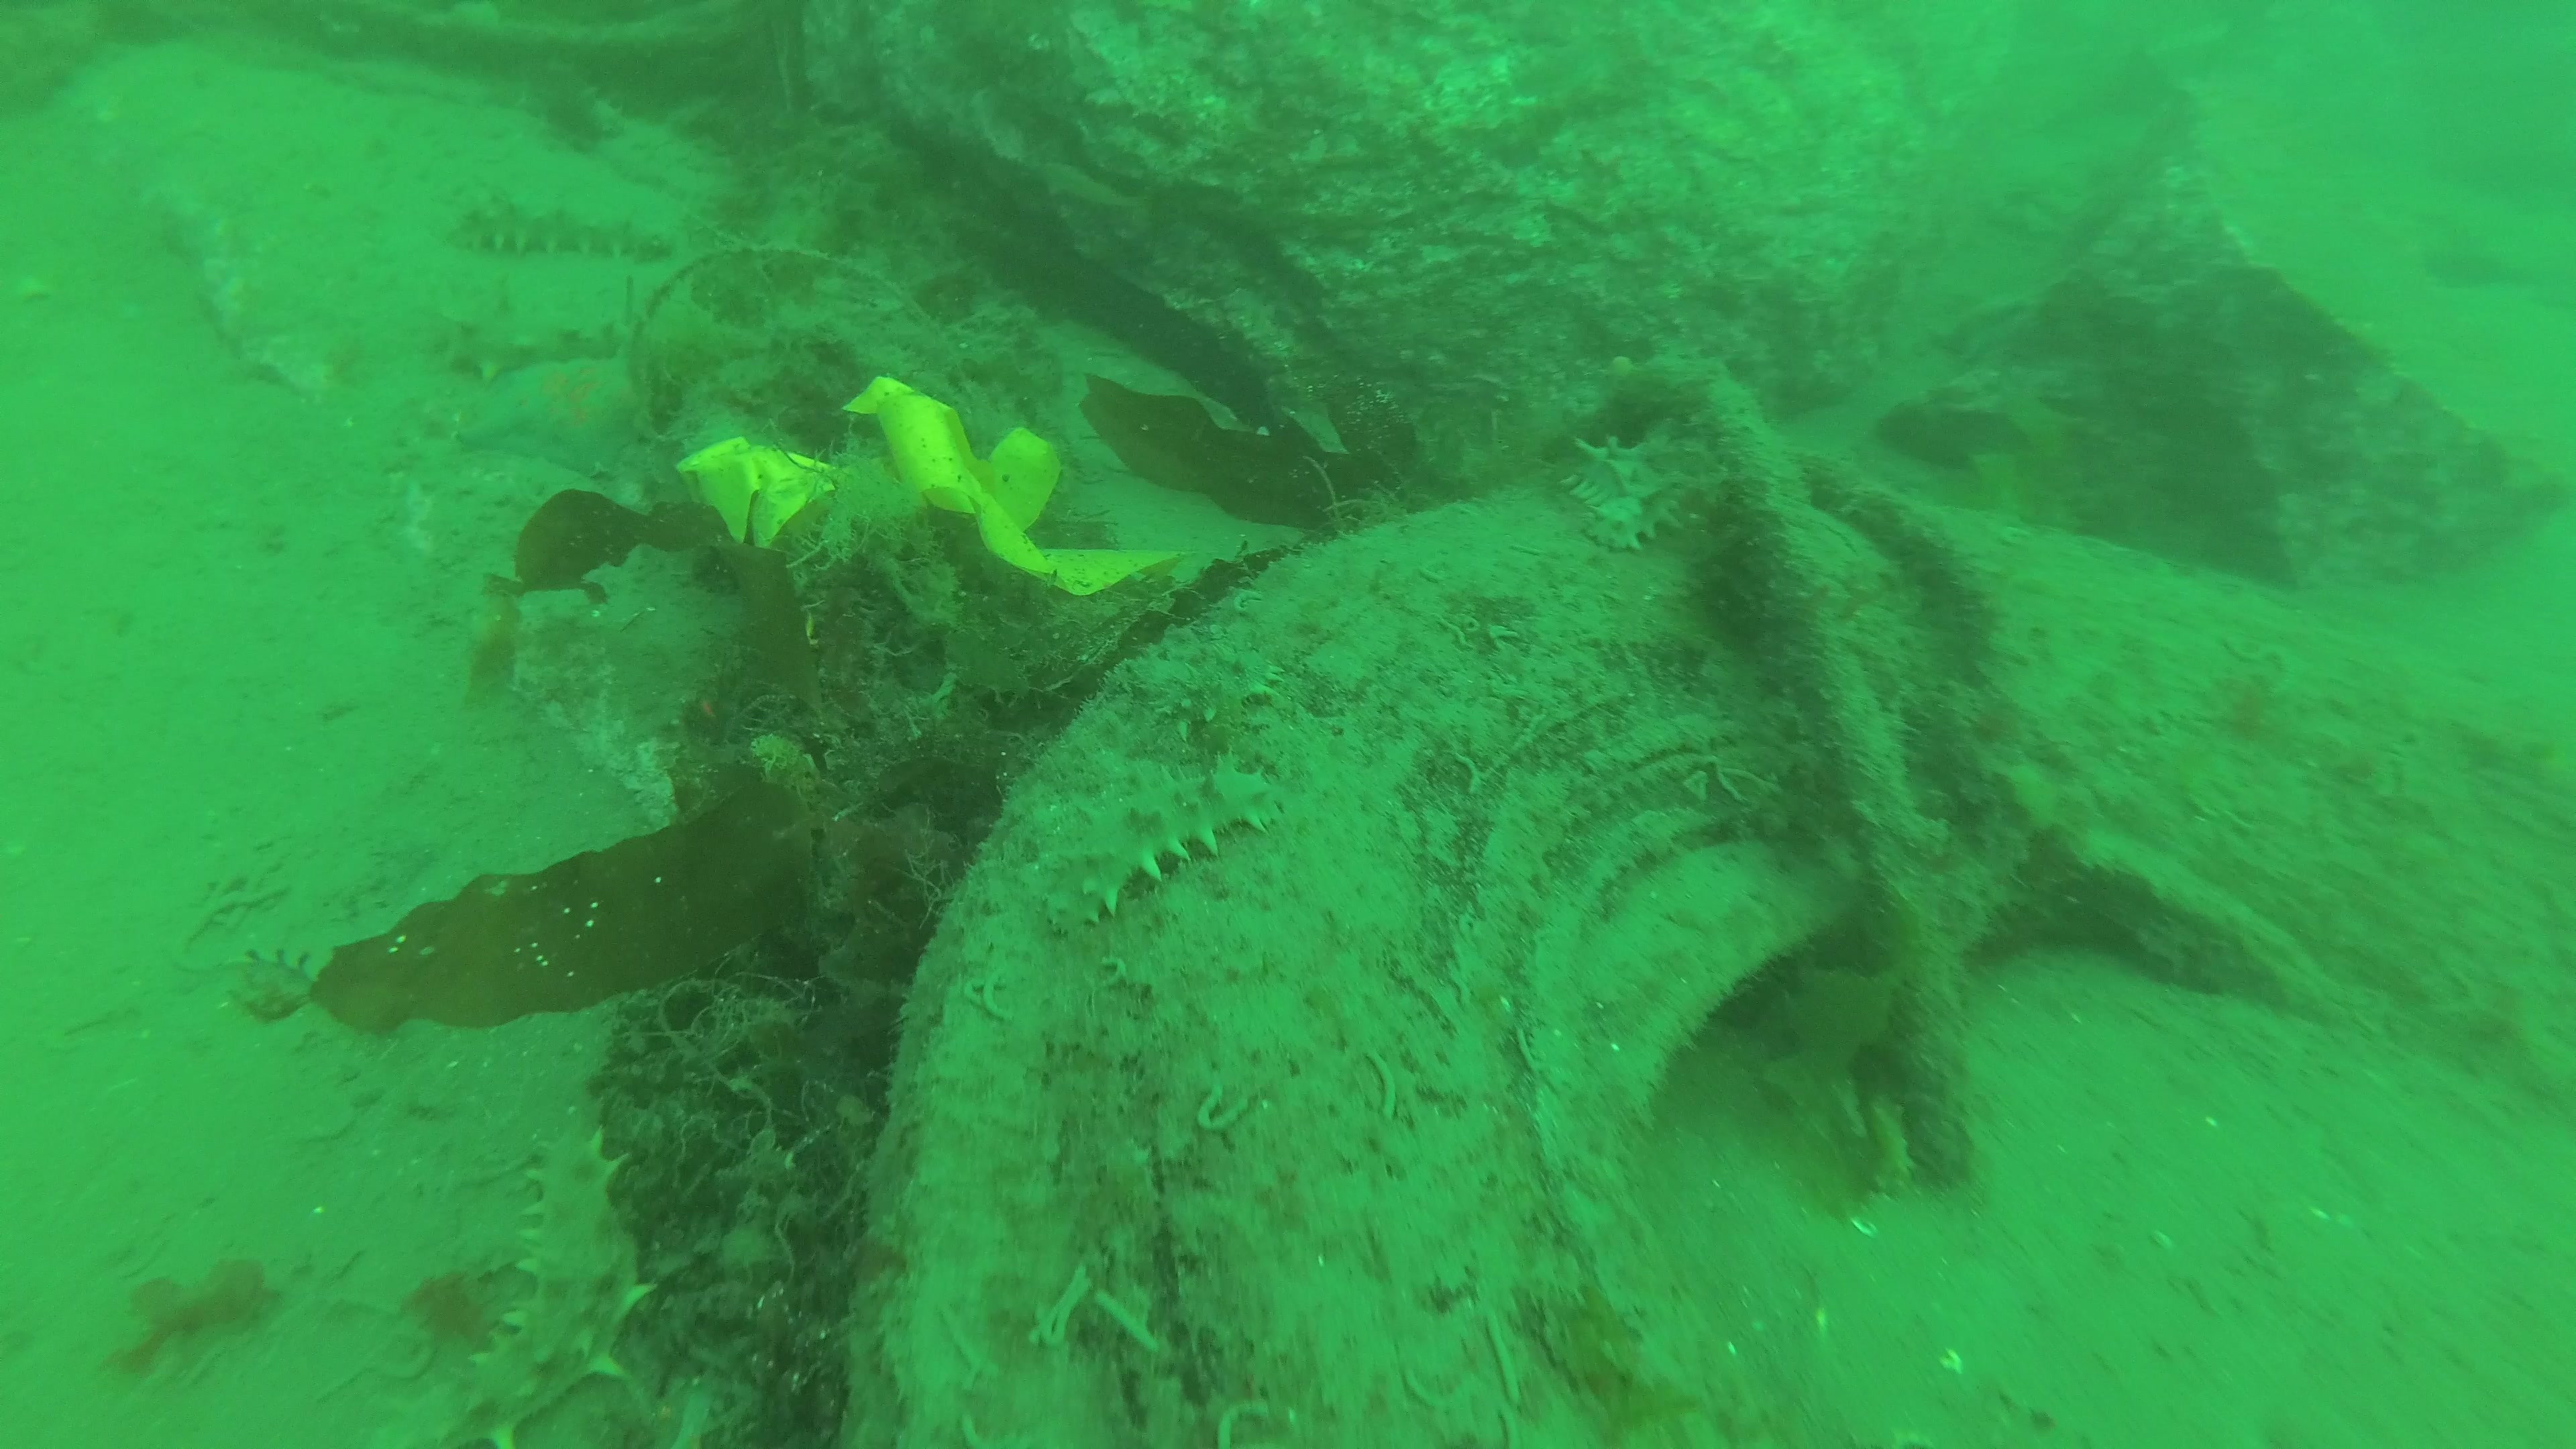holothurian: (456, 1122, 658, 1449), (1042, 743, 1276, 936), (444, 288, 625, 387), (1559, 432, 1690, 557), (451, 196, 674, 265)
starfish: (448, 352, 640, 483)
